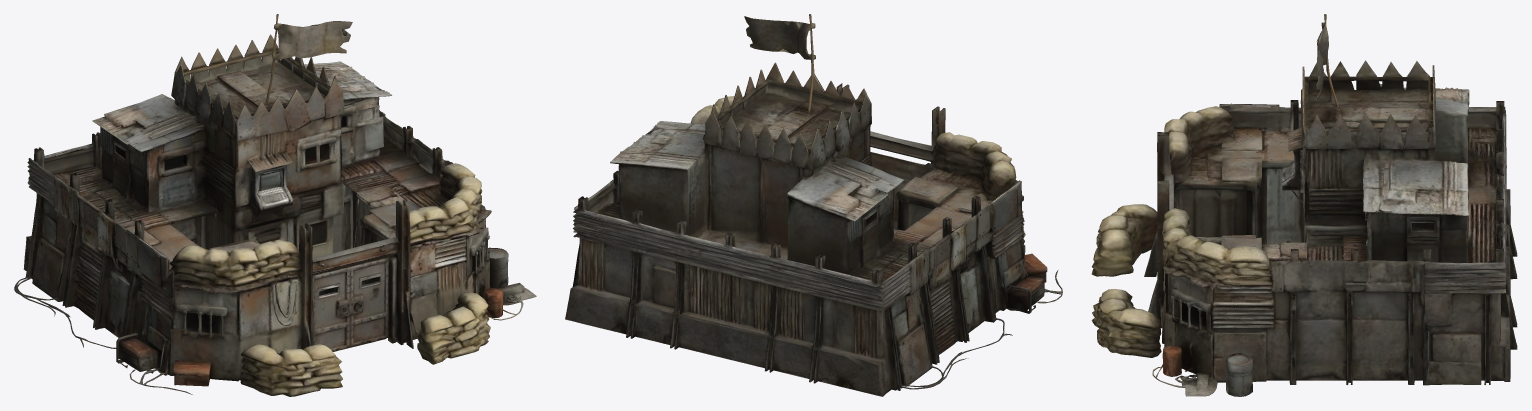
Rendered from base_cla.glb.
3 views of the same model, side by side, from view 1: azimuth 30°, elevation 25°; view 2: azimuth 150°, elevation 25°; view 3: azimuth 270°, elevation 25° (orthographic). The views are drawn at different scales.
Parts seen in each view (by area): view 1: base_cla; view 2: base_cla; view 3: base_cla.
Part boxes in pixels (x1,y1,x2,y2): base_cla: [14, 14, 536, 396]; base_cla: [565, 14, 1062, 396]; base_cla: [1091, 14, 1517, 396].
Bounding box in the file's own units: 16 × 11.07 × 14.72.
Materials: 1 (1 with a texture image).
